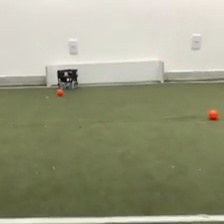ball: (206, 107, 219, 120), (55, 86, 64, 96)
goal: (43, 56, 165, 89)
robot: (55, 67, 79, 89)
